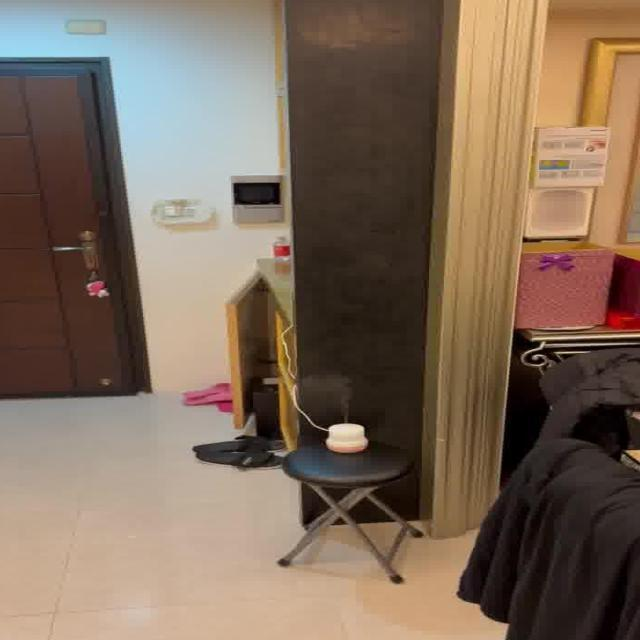fire: (309, 374, 356, 414)
